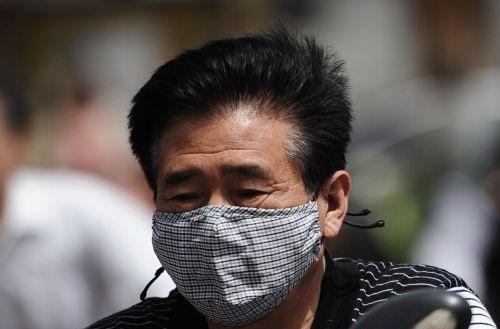OK: (150, 155, 320, 325)
